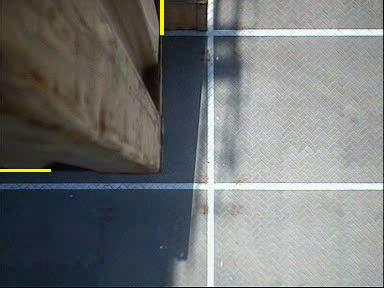groundmarker_2: (207, 62, 247, 111), (208, 235, 248, 284)
